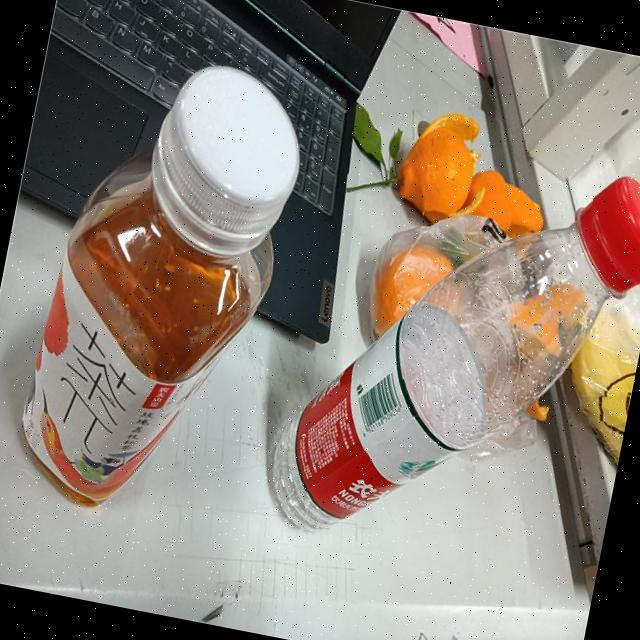orange-peel: (390, 118, 482, 224)
